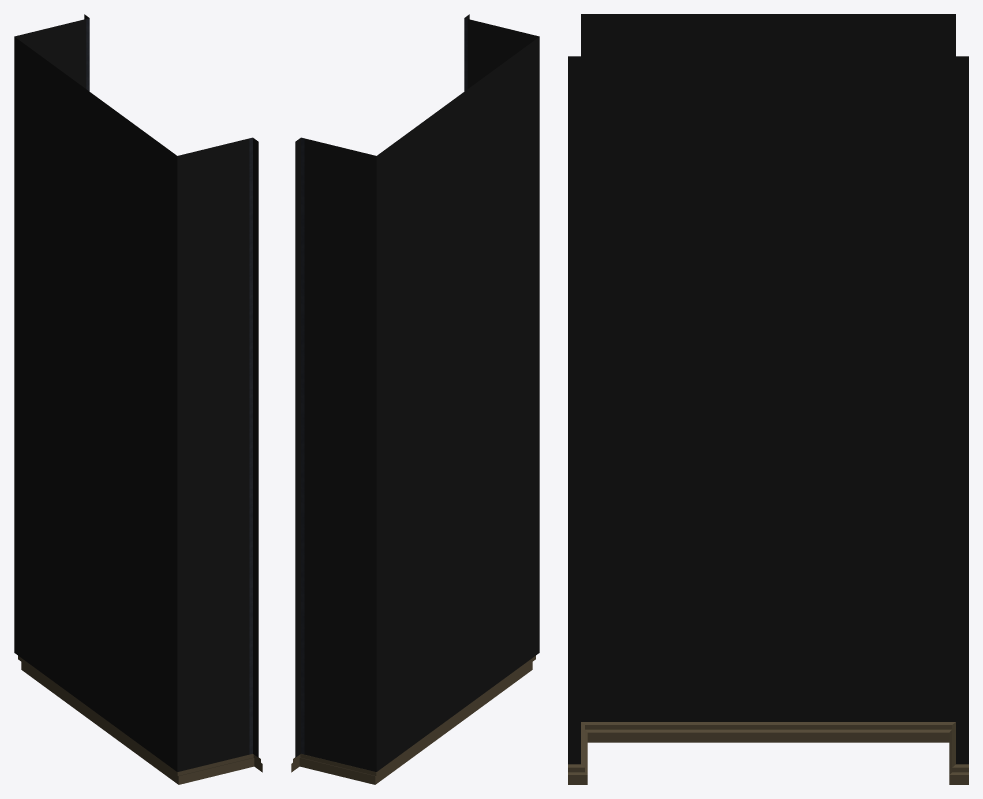
File: HallwayCorner_wall.fbx
3 views of the same model, side by side, from view 1: azimuth 30°, elevation 25°; view 2: azimuth 150°, elevation 25°; view 3: azimuth 270°, elevation 25° (orthographic). The views are drawn at different scales.
Visible parts, largest first — view 1: HallwayCorner_wall; view 2: HallwayCorner_wall; view 3: HallwayCorner_wall.
Boxes of the visible parts, bbox=[...] form: HallwayCorner_wall: bbox=[14, 14, 262, 784]; HallwayCorner_wall: bbox=[291, 14, 539, 784]; HallwayCorner_wall: bbox=[568, 14, 968, 784].
Size of the model in its own units: 106 by 800 by 400.
